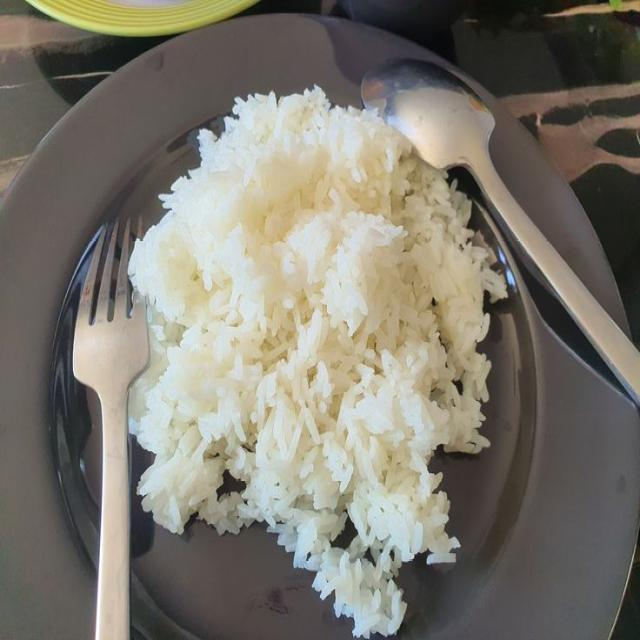rice: (130, 89, 505, 637)
